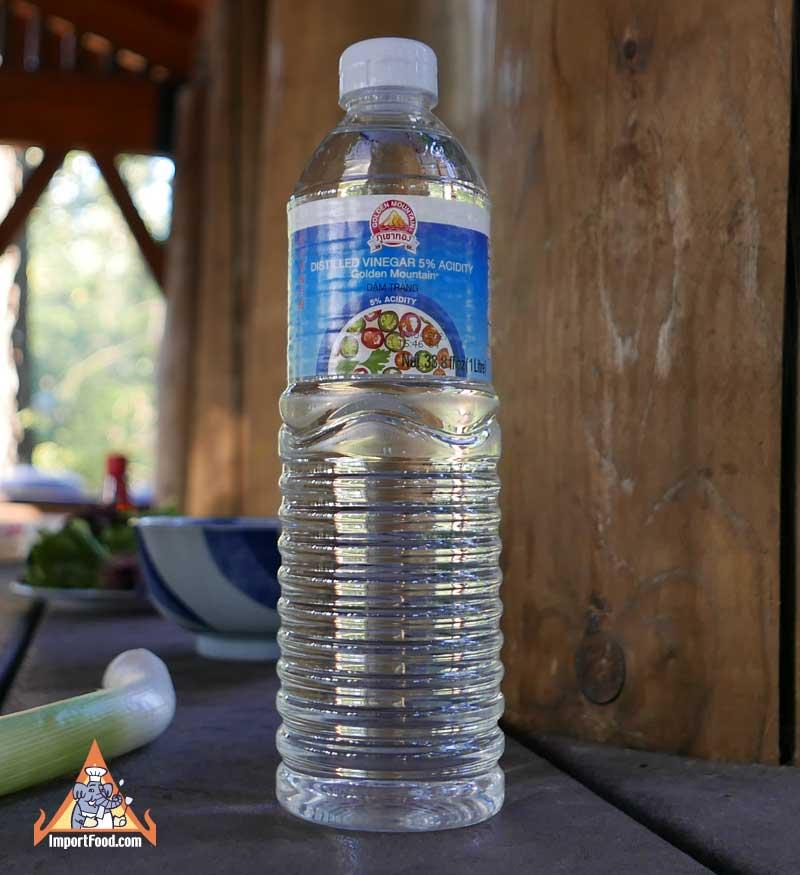plastic: (276, 37, 504, 830)
